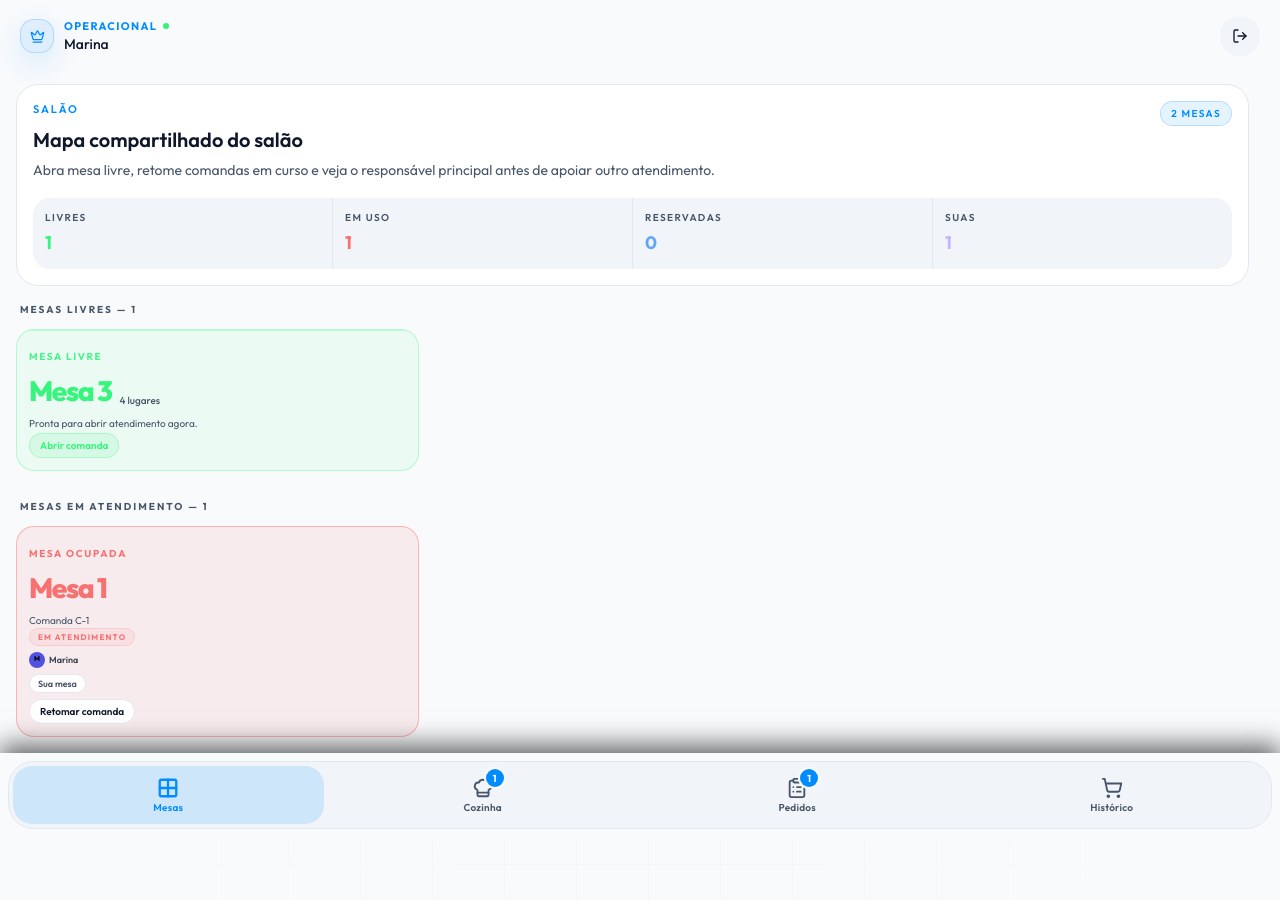
Test: StaffMobileShell › abre uma nova comanda pelo fluxo categorias → produtos e envia o pedido
Click the button with test id "mobile-mesa-mesa-3" at [66, 356], box [16, 328, 419, 470]
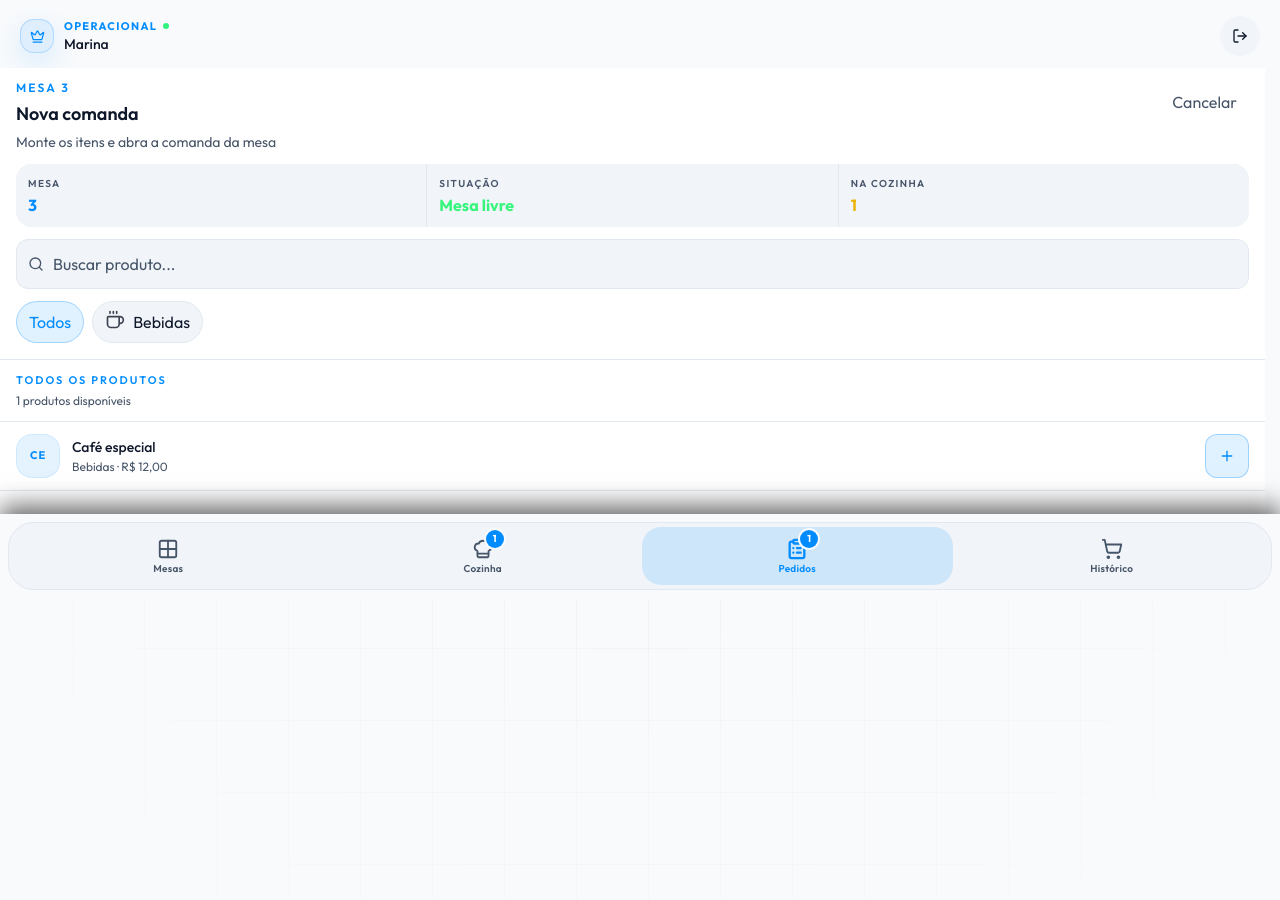
Expected: the heading "Nova comanda" is shown, [16, 102, 139, 125]
Expected: the text "Situação" is shown, [439, 177, 500, 190]
Expected: the text "Na cozinha" is shown, [851, 177, 926, 190]
Click the button "Bebidas" at [148, 322], box [92, 301, 203, 343]
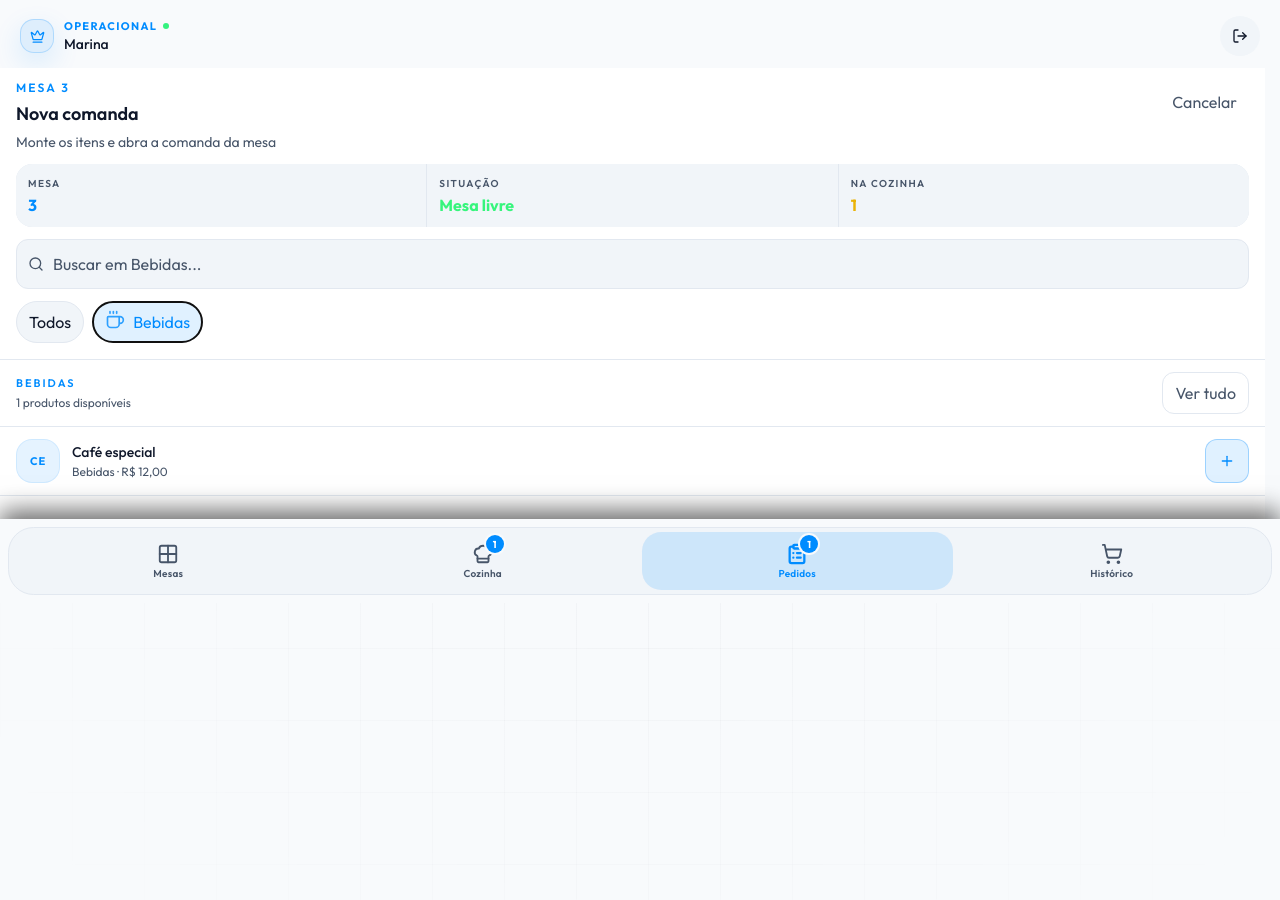
Click the button named "Adicionar Café especial" at [1227, 461], box [1205, 439, 1249, 483]
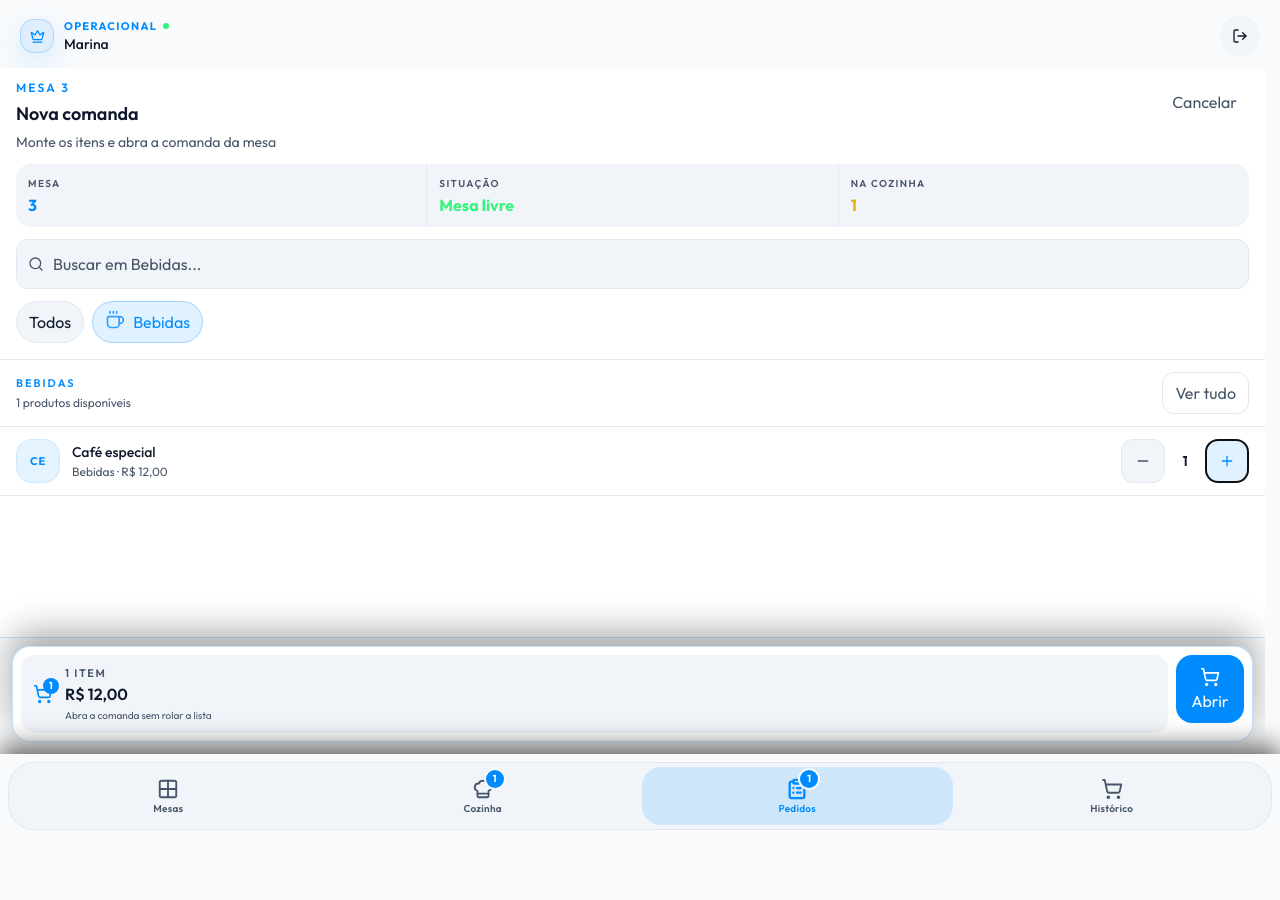
Click the button named "Abrir comanda" at [1210, 689], box [1176, 655, 1244, 723]
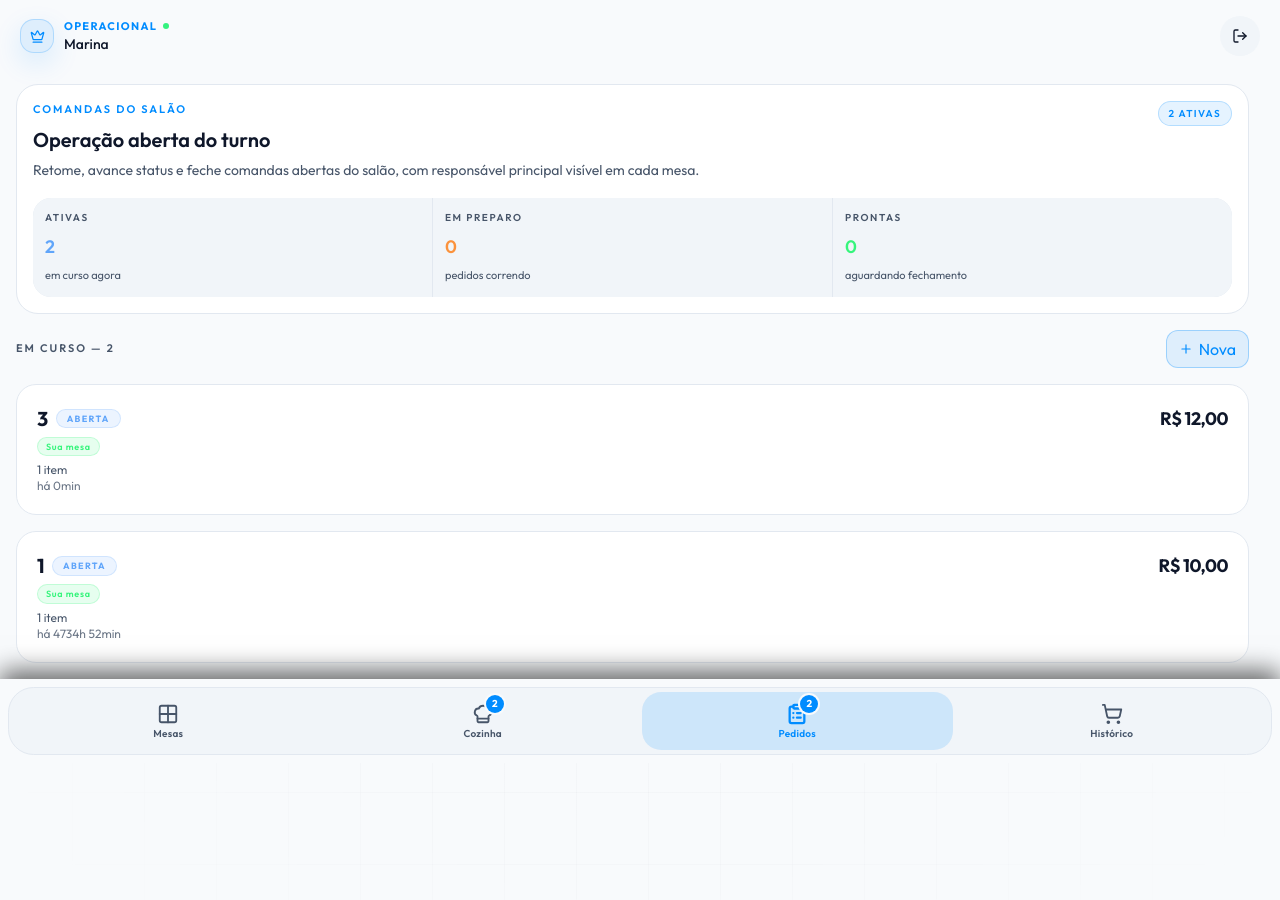
Expected: the text "Comandas do salão" is shown, [33, 102, 187, 116]
Expected: the element with test id "summary-card-ativas" shows "2", [45, 234, 55, 258]
